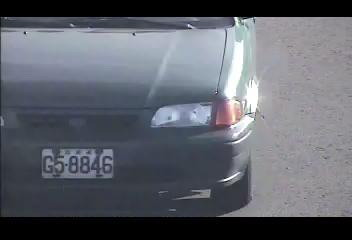plate: (39, 146, 115, 180)
